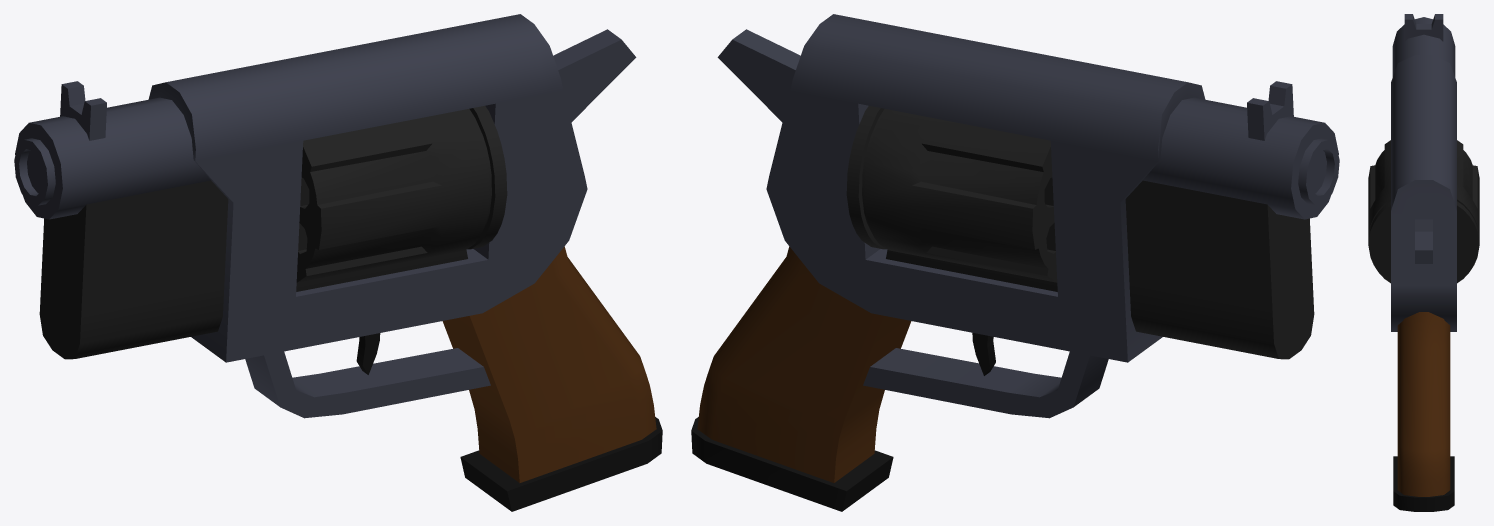
The model's file is Revolver_Small.obj.
3 views of the same model, side by side, from view 1: azimuth 30°, elevation 25°; view 2: azimuth 150°, elevation 25°; view 3: azimuth 270°, elevation 25° (orthographic). The views are drawn at different scales.
Parts seen in each view (by area): view 1: Revolver_Small_Cube.290; view 2: Revolver_Small_Cube.290; view 3: Revolver_Small_Cube.290.
Part boxes in pixels (left/top/right/bottom): Revolver_Small_Cube.290: left=14, top=14, right=662, bottom=511; Revolver_Small_Cube.290: left=691, top=14, right=1339, bottom=511; Revolver_Small_Cube.290: left=1368, top=14, right=1479, bottom=511.
Size of the model in its own units: 0.6632 by 0.5096 by 0.1576.
